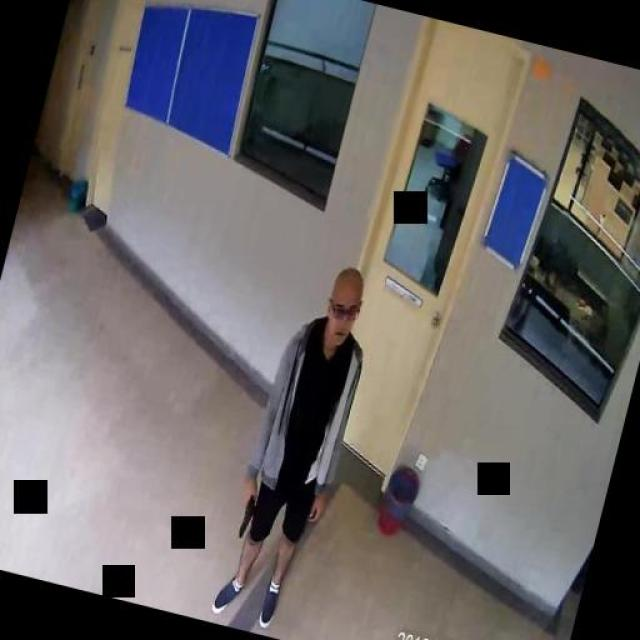gun: (232, 487, 258, 538)
